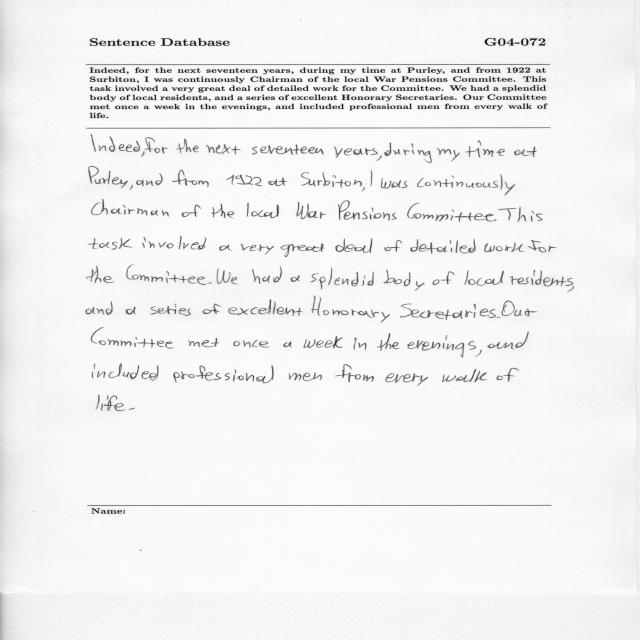word: (310, 296, 390, 323), (417, 174, 515, 196), (173, 365, 274, 383), (91, 328, 174, 349), (407, 203, 497, 222), (126, 264, 207, 285), (407, 335, 476, 358), (91, 135, 155, 157), (310, 267, 374, 289), (92, 199, 169, 217), (229, 299, 303, 316), (400, 304, 475, 320), (338, 201, 397, 221), (92, 364, 159, 381), (510, 270, 574, 287), (480, 300, 537, 318), (410, 239, 476, 254), (301, 172, 362, 188), (142, 236, 206, 250), (383, 270, 425, 291), (89, 167, 128, 189), (252, 144, 324, 155), (393, 143, 432, 163), (334, 146, 382, 161), (334, 364, 374, 382), (487, 332, 529, 349), (465, 141, 505, 158), (464, 270, 504, 286), (172, 170, 209, 187), (281, 243, 325, 257), (442, 369, 487, 382), (385, 373, 428, 386), (336, 239, 373, 254), (88, 238, 133, 250), (150, 303, 191, 316), (296, 202, 326, 219), (252, 267, 282, 284), (247, 203, 279, 218), (303, 336, 343, 348), (96, 395, 126, 411), (87, 266, 114, 283), (377, 333, 400, 351), (484, 243, 525, 253), (226, 175, 262, 186), (517, 207, 543, 222), (206, 144, 241, 155), (86, 301, 113, 315), (241, 244, 274, 255), (136, 173, 163, 186), (528, 240, 556, 252), (217, 269, 238, 285), (177, 139, 199, 154), (437, 148, 460, 162), (496, 368, 519, 382), (212, 204, 234, 218), (433, 271, 455, 285), (381, 178, 408, 189), (234, 340, 270, 348), (188, 338, 219, 347), (289, 373, 322, 381), (182, 205, 201, 218), (514, 147, 537, 157), (498, 208, 516, 220), (384, 240, 402, 252), (203, 304, 221, 314), (354, 338, 367, 350), (269, 178, 288, 186), (385, 143, 392, 156), (219, 245, 233, 251), (126, 307, 136, 315), (291, 275, 301, 282), (283, 341, 292, 348), (474, 350, 482, 357), (162, 147, 168, 154), (567, 286, 574, 292), (370, 170, 372, 186), (154, 148, 160, 153), (130, 185, 133, 190), (474, 303, 476, 310), (362, 188, 365, 192), (129, 408, 135, 410), (208, 283, 212, 284)
